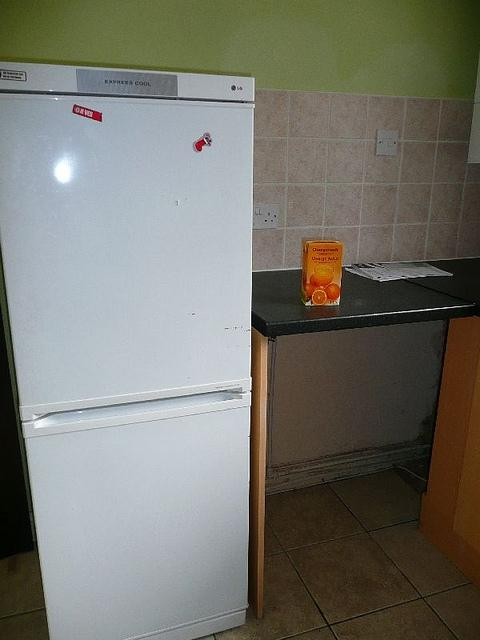orange: (324, 284, 341, 300), (312, 290, 326, 306), (306, 284, 314, 302), (310, 273, 320, 287)
